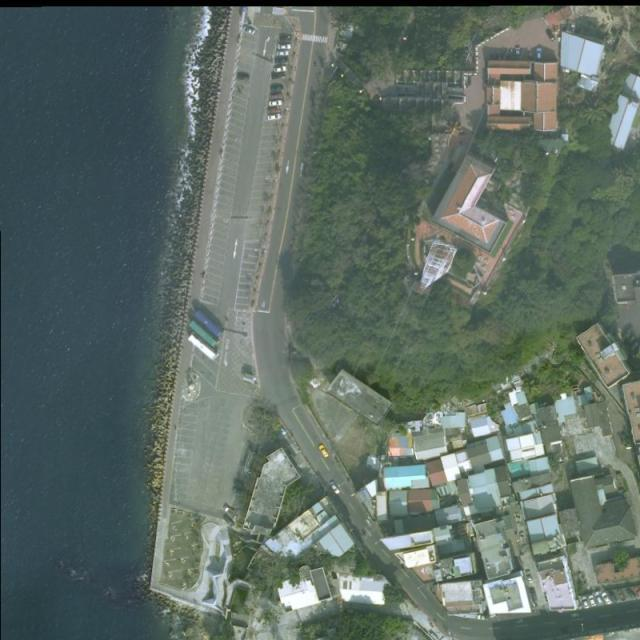vehicle: (194, 310, 223, 337), (188, 335, 217, 361), (189, 321, 218, 346), (318, 443, 330, 462), (329, 480, 343, 495), (623, 586, 637, 600), (602, 591, 613, 606), (615, 587, 626, 602), (594, 590, 603, 606), (607, 590, 617, 604), (546, 28, 556, 42), (581, 595, 590, 610), (267, 112, 282, 121), (266, 106, 282, 114), (270, 91, 284, 100), (270, 71, 286, 78), (536, 47, 543, 62), (270, 84, 283, 92), (274, 66, 287, 74), (242, 26, 255, 34), (589, 594, 596, 608), (277, 43, 292, 49), (275, 50, 290, 56), (236, 74, 251, 80), (268, 100, 282, 106), (634, 586, 640, 599), (275, 58, 288, 63)
